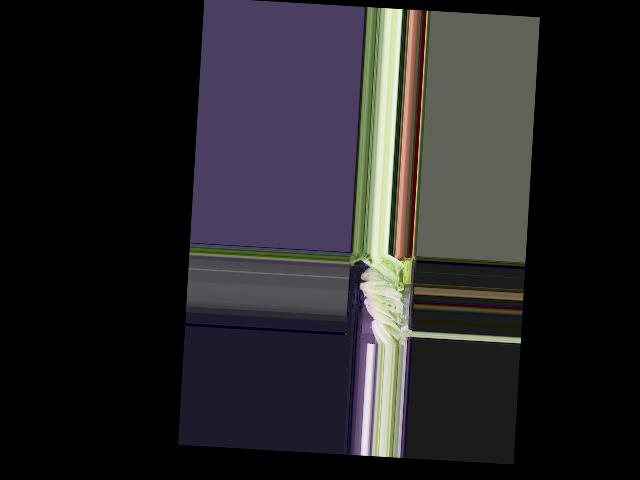lettuce: (369, 317, 399, 346)
